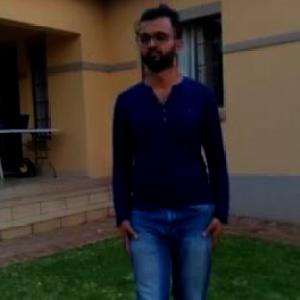follow: (114, 21, 218, 299)
